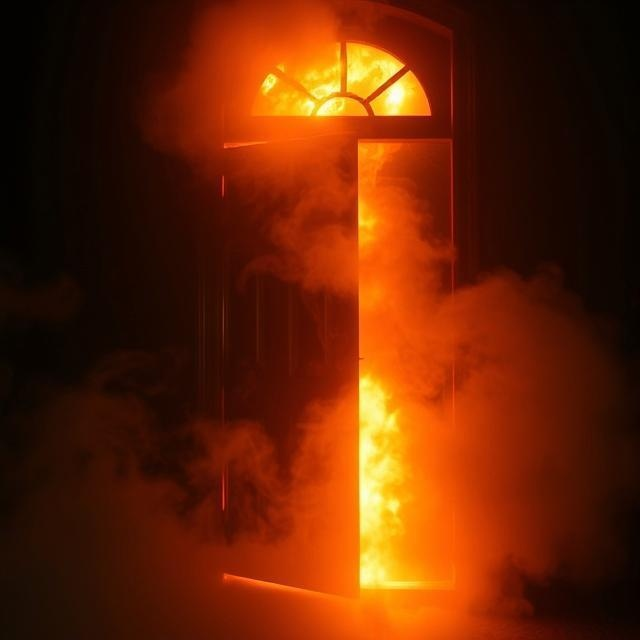fire: (177, 7, 497, 614)
